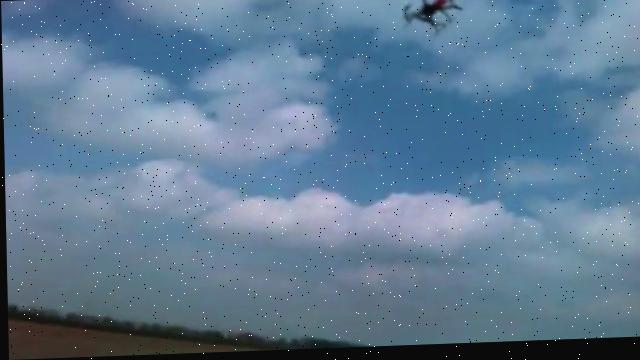drone: (396, 0, 465, 42)
